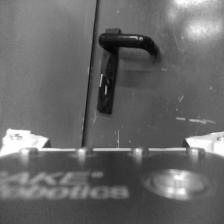Door Handle: (97, 32, 159, 56)
Lock: (98, 72, 112, 100)
